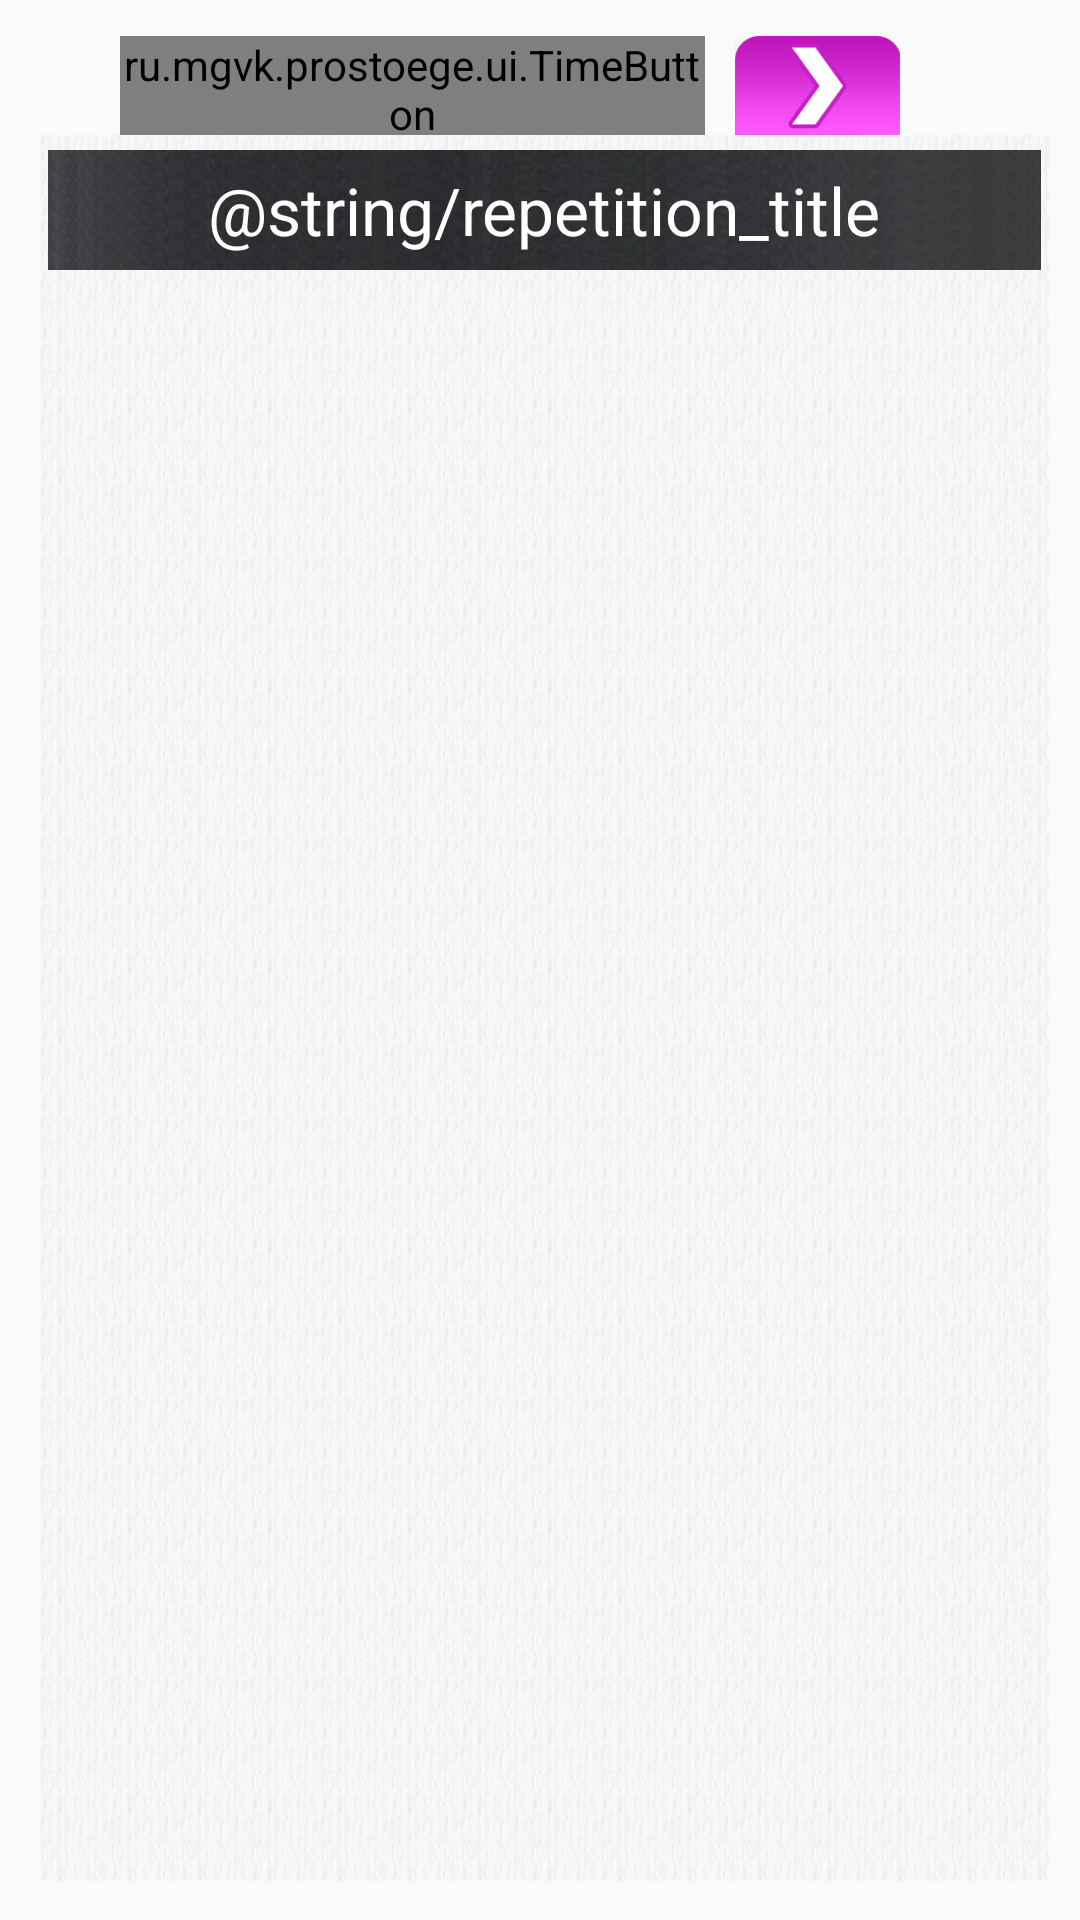

Named icons in this screenshot (1080x1920) and their bounding boxes, (left=x1, top=y1, right=x2, bottom=y2):
right: (left=735, top=36, right=900, bottom=135)
